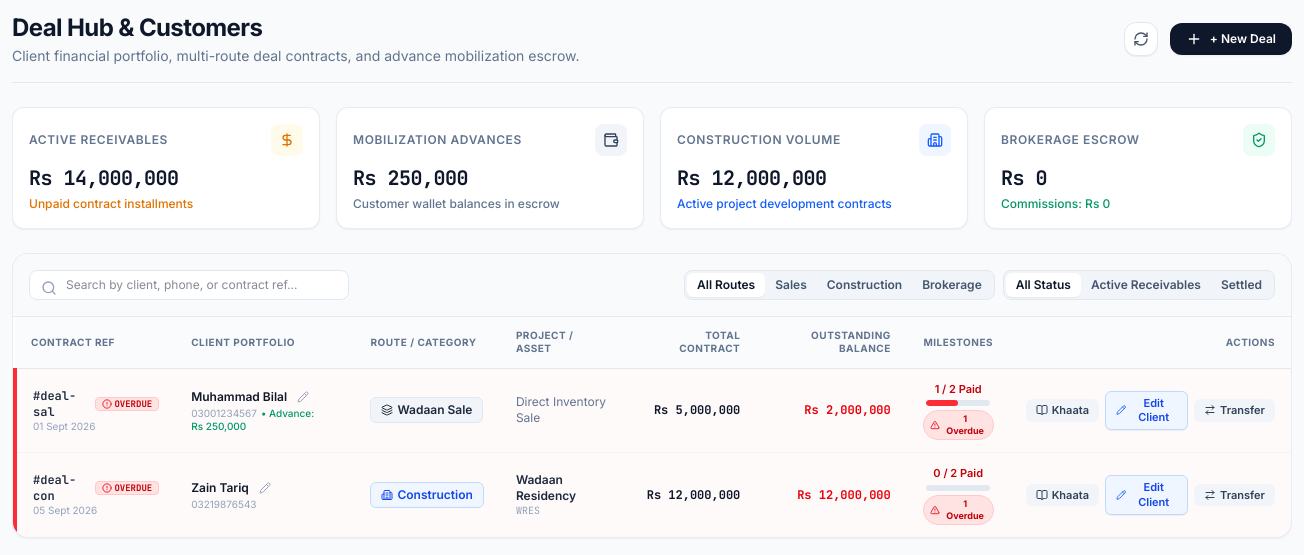
Screen 8: Deal Hub & Customer Portfolio (DealHubPage) › 5. filters deals table by route filter pills (Construction only)
This screenshot has width=1304, height=555.
Click the button "Construction": (865, 285) x1=817 y1=273 x2=912 y2=297
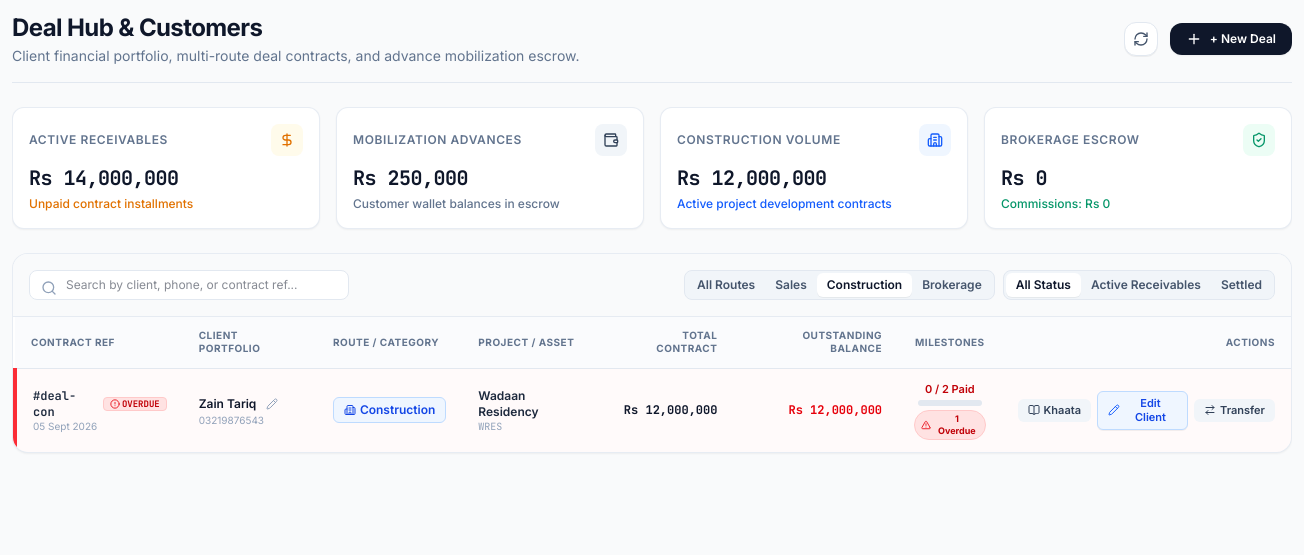
Expected: the row with test id "deal-row-deal-const-1" is shown, x1=15 y1=368 x2=1291 y2=452
Expected: the row with test id "deal-row-deal-sale-1" is gone
